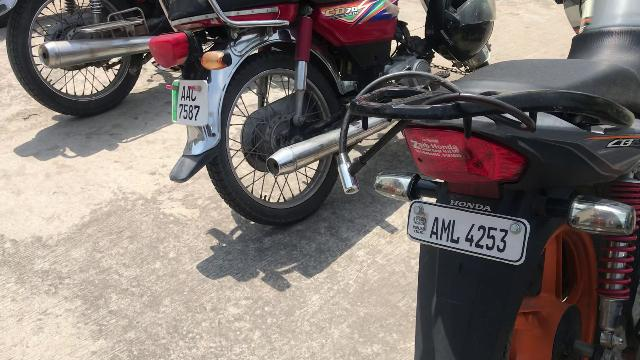plate: (408, 202, 526, 262)
